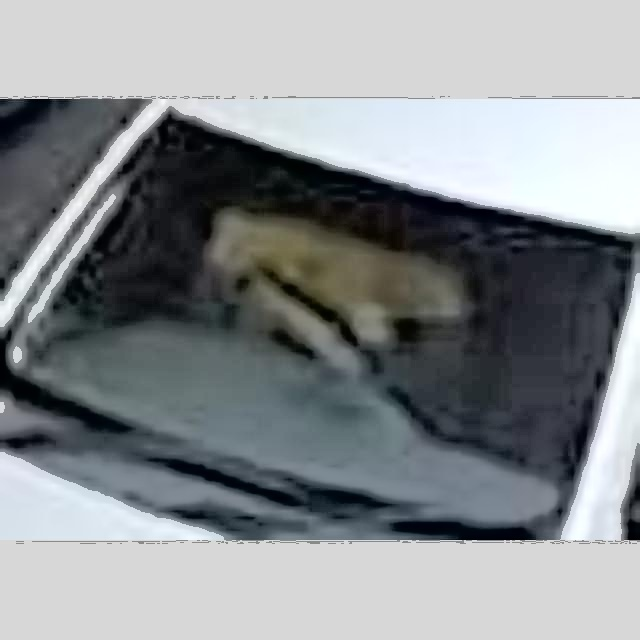tidak-pakai: (166, 182, 467, 393)
